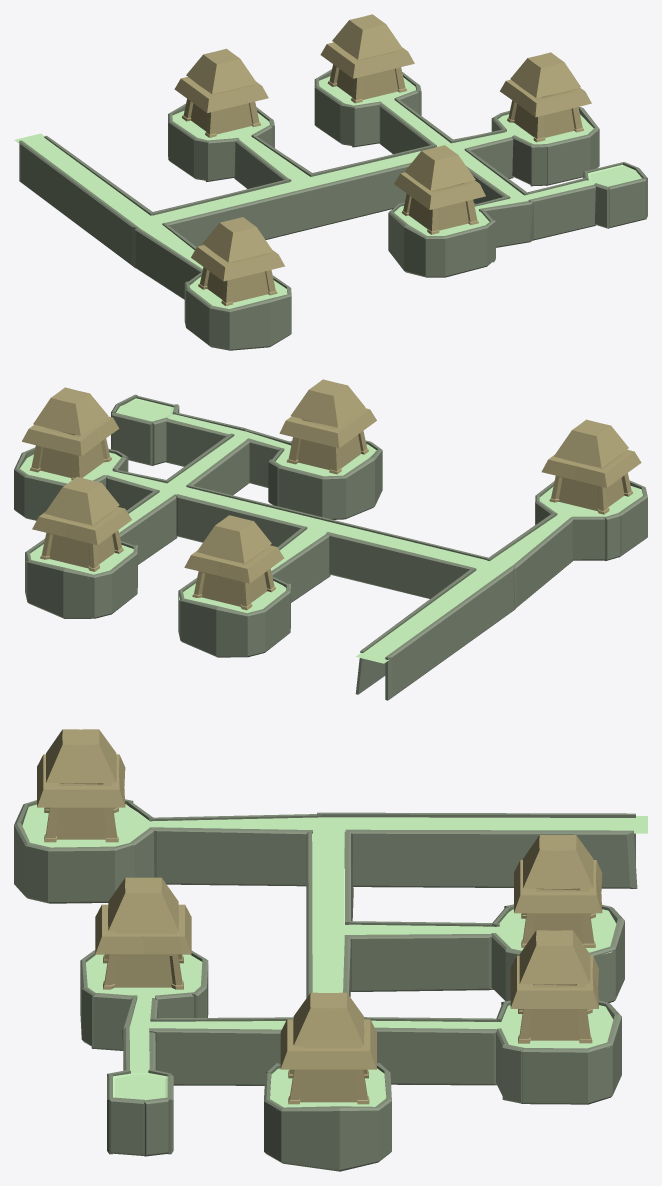
The model's file is GenbuStage1.fbx.
The picture shows the model from 3 angles, top to bottom: view 1: azimuth 30°, elevation 25°; view 2: azimuth 150°, elevation 25°; view 3: azimuth 270°, elevation 25°; orthographic projection. The views are drawn at different scales.
Visible parts, largest first — view 1: Cube.020, Plane, Cube.003, Cube.005, Cube.002, Cube.001, Cube.004; view 2: Cube.020, Plane, Cube.003, Cube.005, Cube.002, Cube.004, Cube.001; view 3: Cube.020, Plane, Cube.004, Cube.001, Cube.002, Cube.005, Cube.003.
Boxes of the visible parts, <box> form: Cube.020: <box>19,69,647,350</box>; Plane: <box>14,76,641,308</box>; Cube.003: <box>174,48,268,137</box>; Cube.005: <box>191,217,284,305</box>; Cube.002: <box>320,14,414,103</box>; Cube.001: <box>500,52,591,142</box>; Cube.004: <box>394,145,485,234</box>; Cube.020: <box>14,394,647,700</box>; Plane: <box>20,398,642,663</box>; Cube.003: <box>184,515,284,610</box>; Cube.005: <box>541,419,641,514</box>; Cube.002: <box>32,477,131,571</box>; Cube.004: <box>279,379,376,474</box>; Cube.001: <box>22,387,119,480</box>; Cube.020: <box>14,799,637,1171</box>; Plane: <box>22,804,647,1107</box>; Cube.004: <box>95,877,191,989</box>; Cube.001: <box>280,992,376,1104</box>; Cube.002: <box>510,930,598,1043</box>; Cube.005: <box>37,729,125,842</box>; Cube.003: <box>514,835,602,947</box>.
Bounding box in the file's own units: 51.63 × 10.96 × 43.5.
